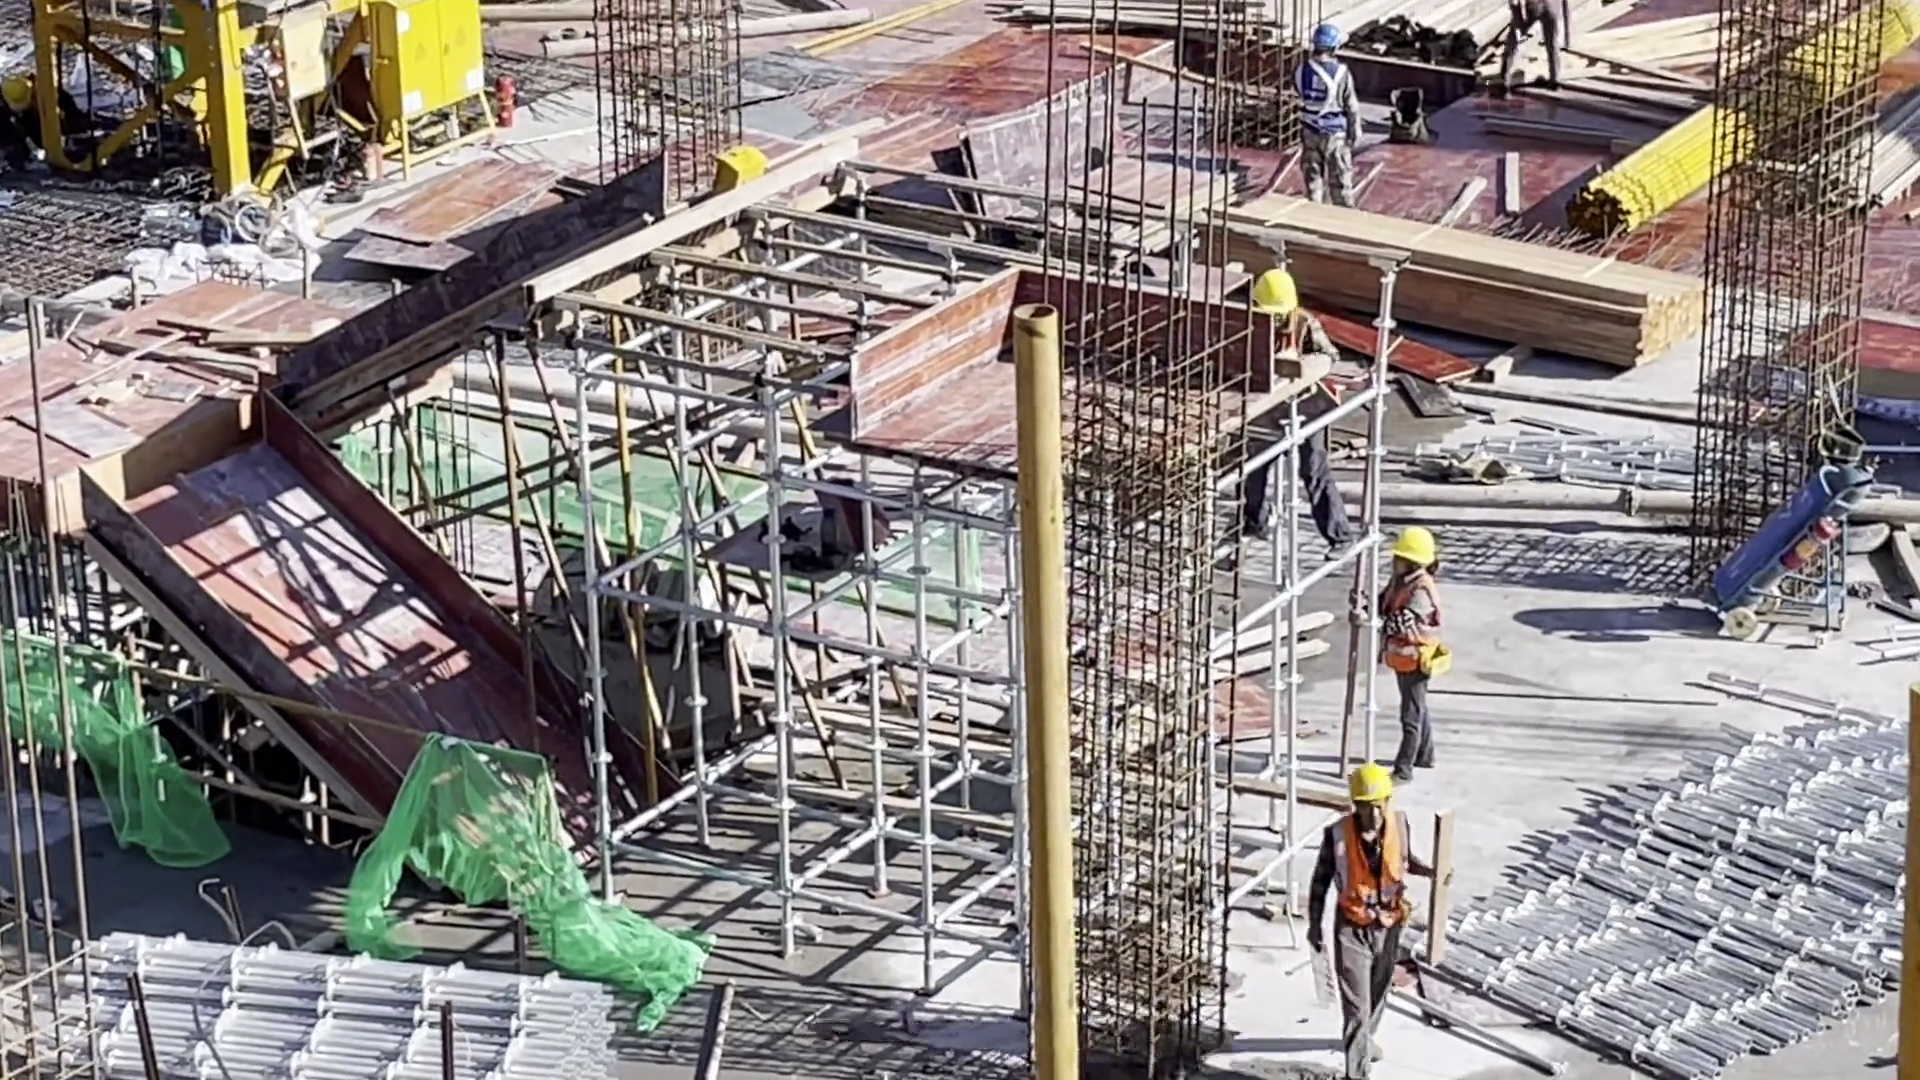ebox: (365, 3, 507, 184)
helmet: (1384, 519, 1436, 572), (1348, 758, 1396, 805), (1257, 273, 1299, 313), (6, 83, 37, 109), (1309, 30, 1340, 51)
person: (1310, 761, 1445, 1080), (1247, 267, 1348, 576), (1375, 519, 1447, 789), (1291, 26, 1373, 211), (1, 72, 81, 180), (1495, 1, 1573, 94)
scaffold: (1400, 712, 1911, 1080), (47, 927, 611, 1080)
vest: (1326, 813, 1409, 927), (1383, 576, 1441, 679), (1303, 60, 1355, 127), (1273, 317, 1318, 364)
wood: (1202, 188, 1706, 373)
